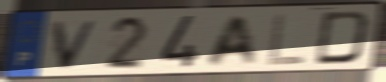2: (103, 15, 150, 71)
4: (157, 13, 201, 70)
A: (203, 13, 259, 68)
D: (311, 9, 373, 67)
L: (265, 11, 308, 68)
V: (50, 18, 103, 71)
